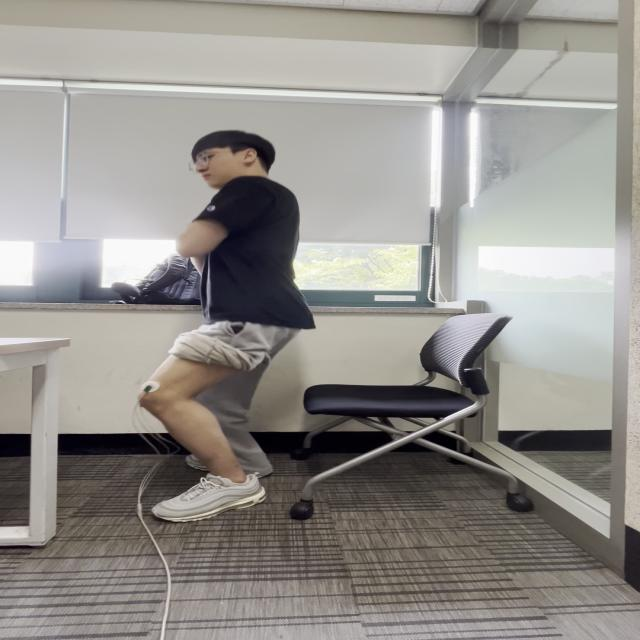stand: (124, 311, 324, 526), (188, 187, 318, 425)
